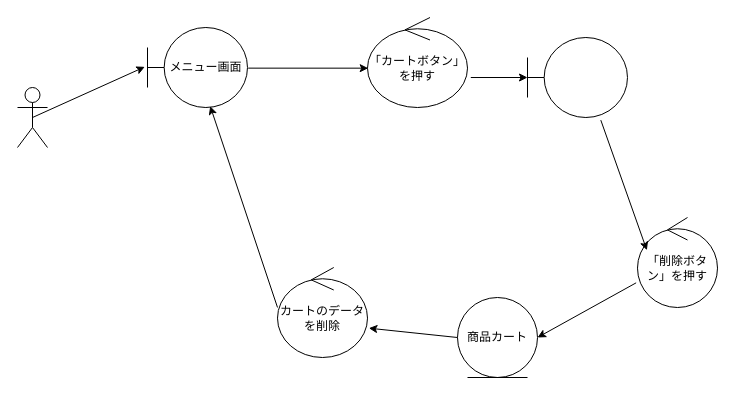
The diagram is 735 pixels wide and 395 high, and some of its shapes have lost their labels. Here are the shapes that lost their labels. From the top down, the centre of each, then its label:
At point 577,77: "カート画面".
At point 32,117: "Actor".
